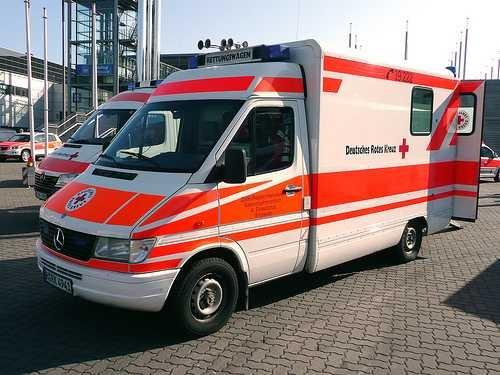car: (34, 36, 485, 336)
